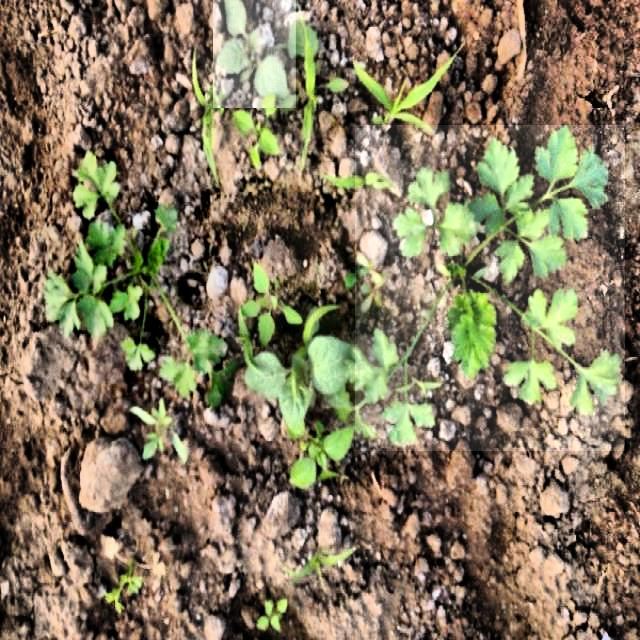Weeds: (214, 0, 298, 108)
undefined: (355, 125, 625, 451), (40, 149, 226, 397)
